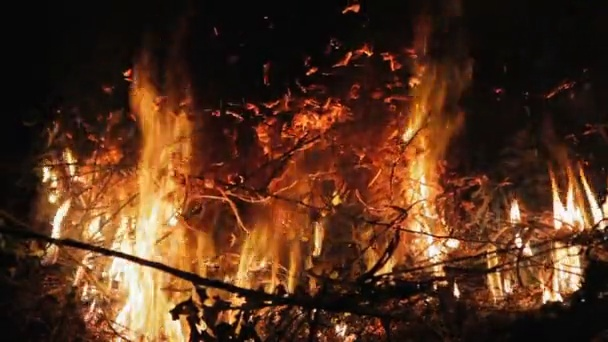fire: (42, 139, 191, 342), (399, 128, 458, 284), (548, 176, 608, 229), (238, 239, 295, 289), (540, 242, 581, 302), (510, 198, 534, 258), (313, 224, 323, 254)
